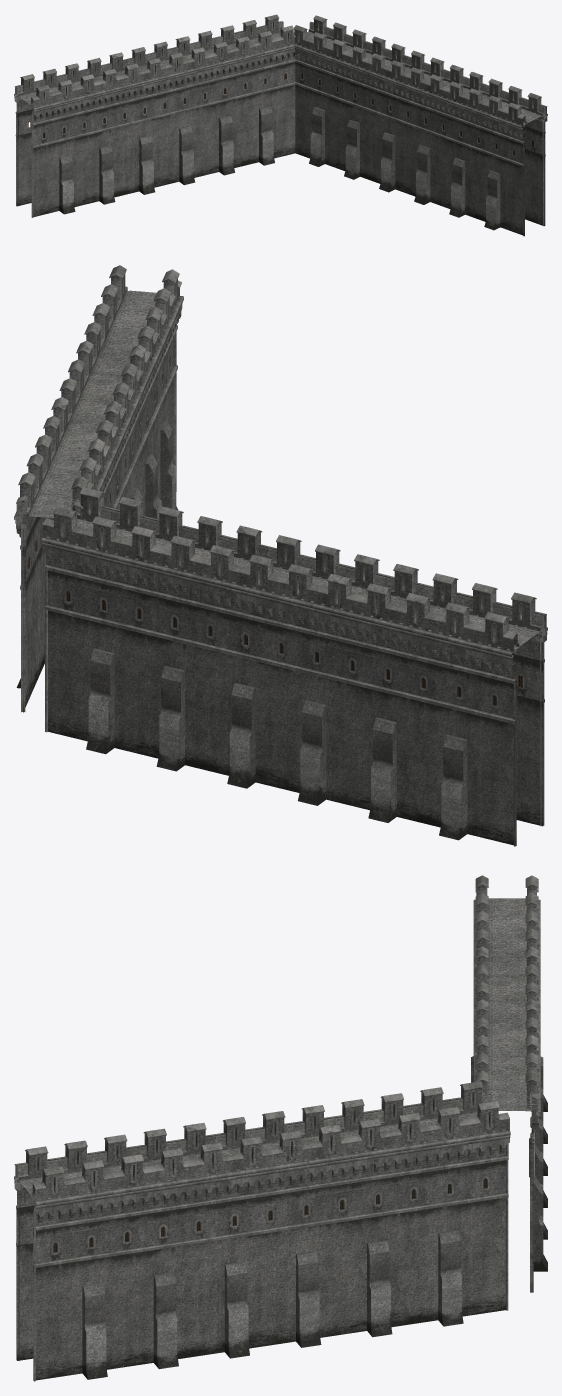
The model's file is Castle_Wall_B_Straight06.fbx.
3 renders of one model, top to bottom at view 1: azimuth 30°, elevation 25°; view 2: azimuth 150°, elevation 25°; view 3: azimuth 270°, elevation 25°, orthographic. The views are drawn at different scales.
Parts seen in each view (by area): view 1: Castle_Wall_B_Straight.006; view 2: Castle_Wall_B_Straight.006; view 3: Castle_Wall_B_Straight.006.
Part boxes in pixels (left/top/right/bottom): Castle_Wall_B_Straight.006: left=14, top=14, right=547, bottom=236; Castle_Wall_B_Straight.006: left=14, top=265, right=547, bottom=846; Castle_Wall_B_Straight.006: left=14, top=875, right=547, bottom=1381.
Bounding box in the file's own units: 4279 × 1383 × 3183.
